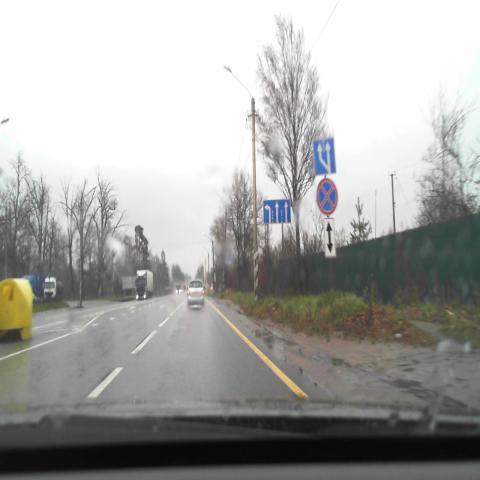8_2_4: (324, 218, 335, 257)
